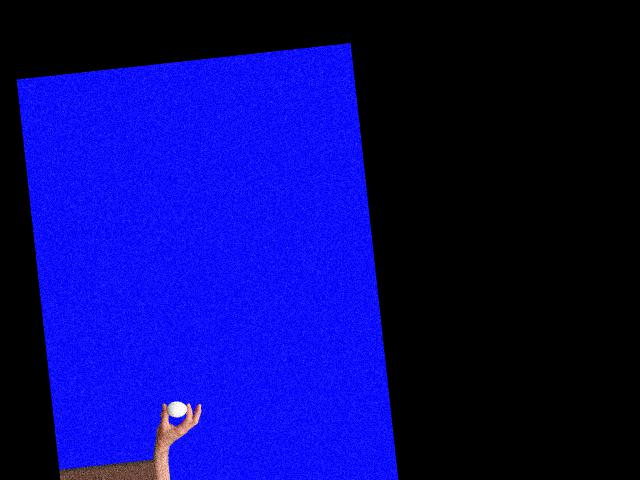egg: (165, 399, 188, 418)
